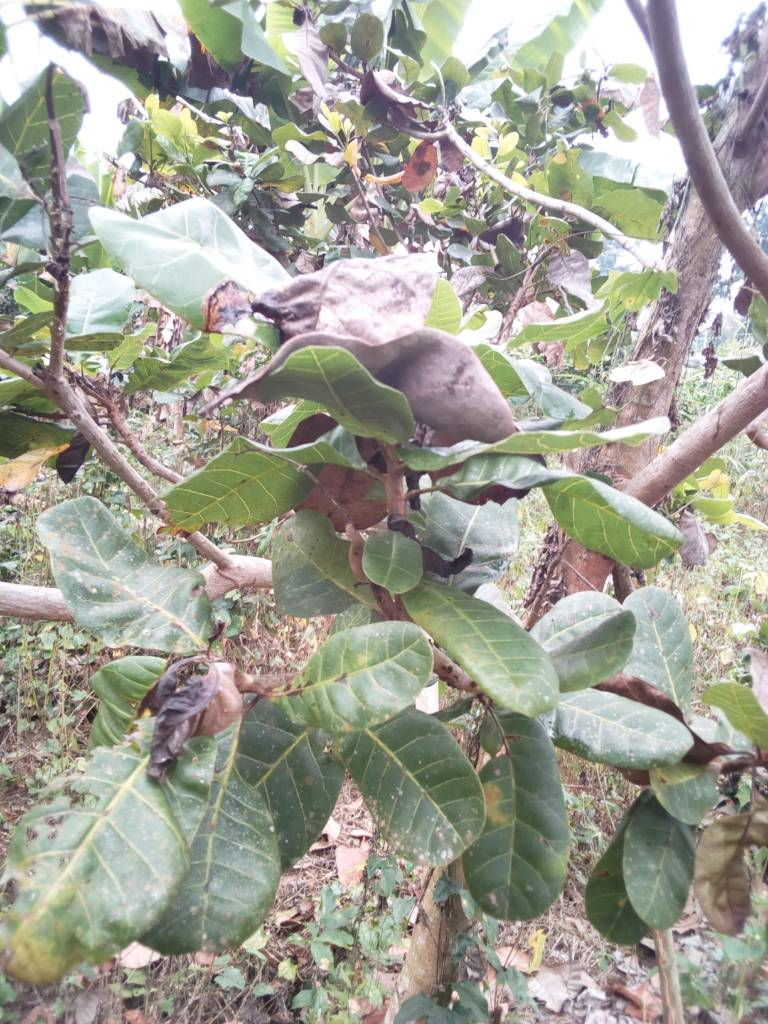Dessèchement des bourgeons: (38, 56, 77, 320)
